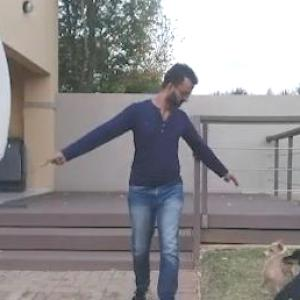land: (1, 45, 269, 299)
